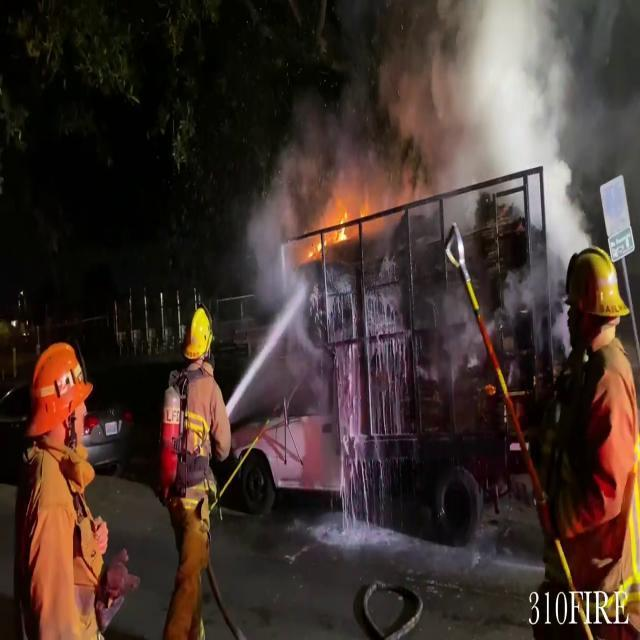Fire: (304, 184, 389, 254)
Smoke: (405, 0, 604, 220)
